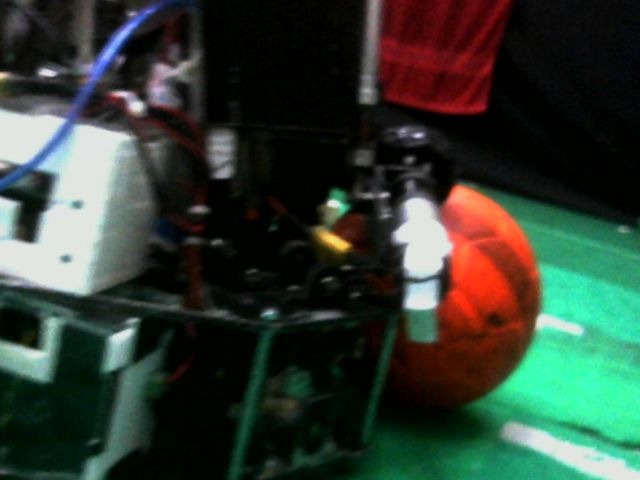ball: (375, 178, 547, 420)
